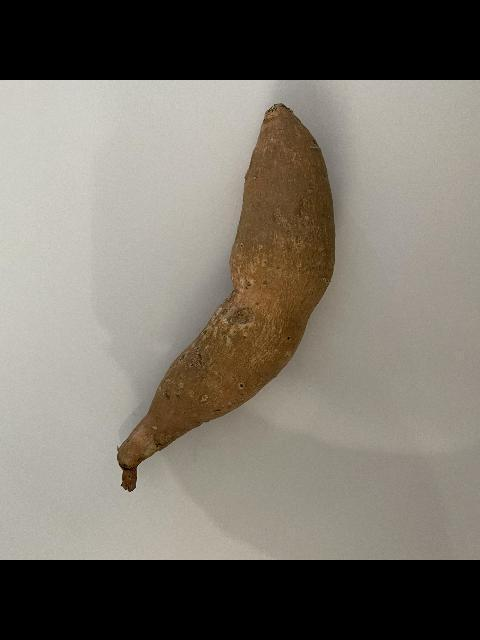sweetpotato: (114, 104, 336, 492)
